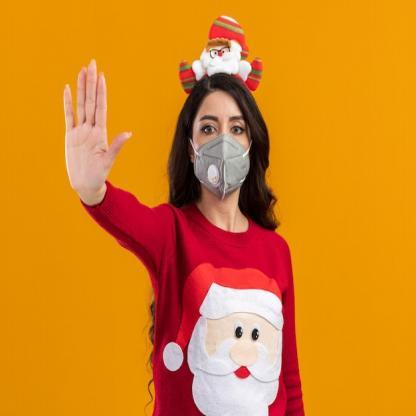stop: (59, 55, 134, 206)
